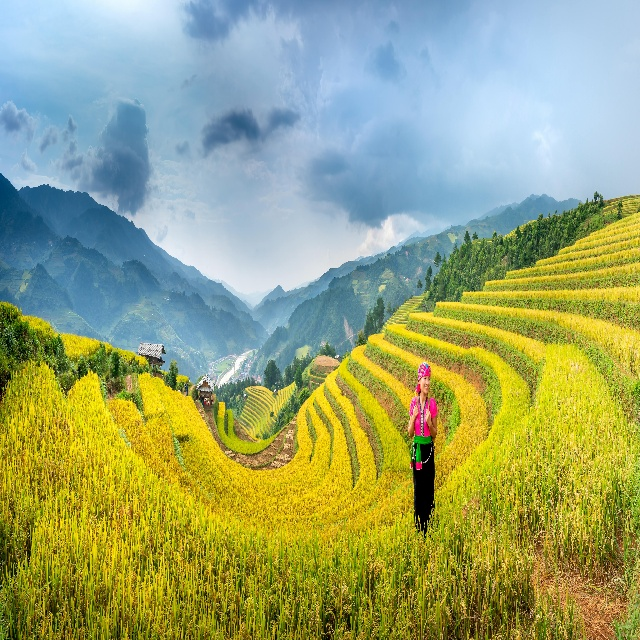Sin_guantes: (425, 408, 432, 427), (411, 404, 419, 420)
